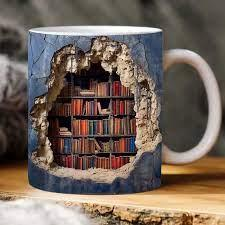Mug: (17, 20, 225, 204)
